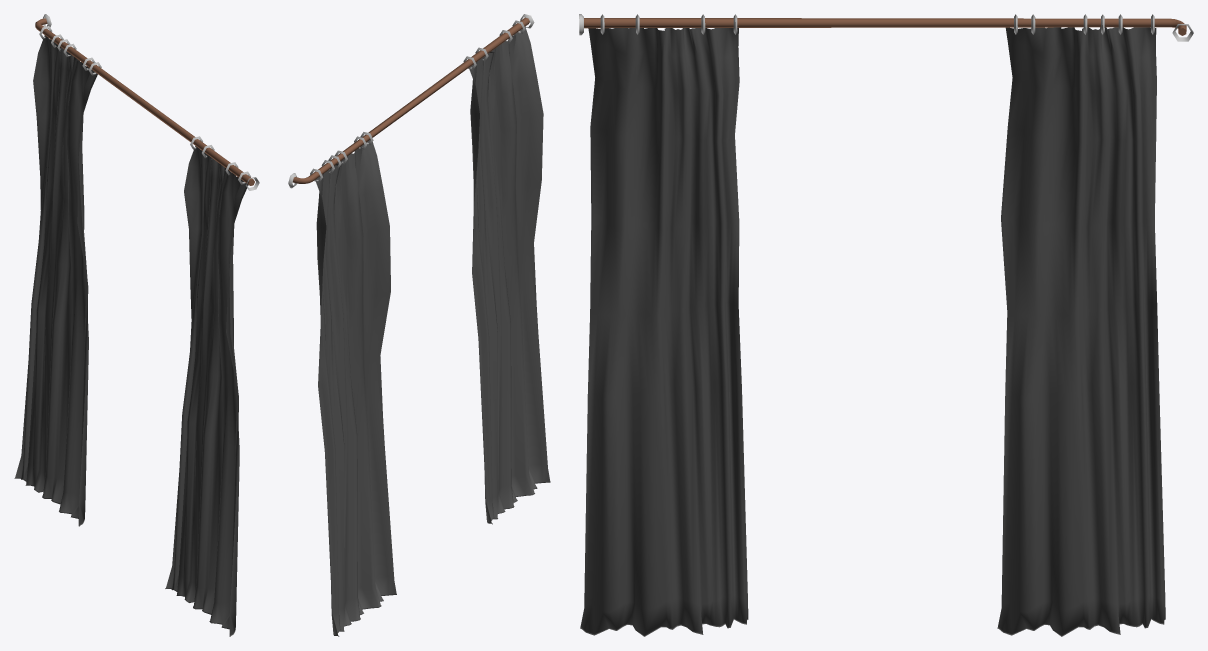
Rendered from LivingroomCurtains03.FBX.
3 renders of one model, left to right at view 1: azimuth 30°, elevation 25°; view 2: azimuth 150°, elevation 25°; view 3: azimuth 270°, elevation 25°, orthographic. The views are drawn at different scales.
Parts seen in each view (by area): view 1: LivingroomCurtains03; view 2: LivingroomCurtains03; view 3: LivingroomCurtains03.
Part boxes in pixels (x1,y1,x2,y2): LivingroomCurtains03: [14, 14, 259, 636]; LivingroomCurtains03: [288, 14, 550, 636]; LivingroomCurtains03: [579, 14, 1193, 636].
Bounding box in the file's own units: 16.68 × 160 × 181.
